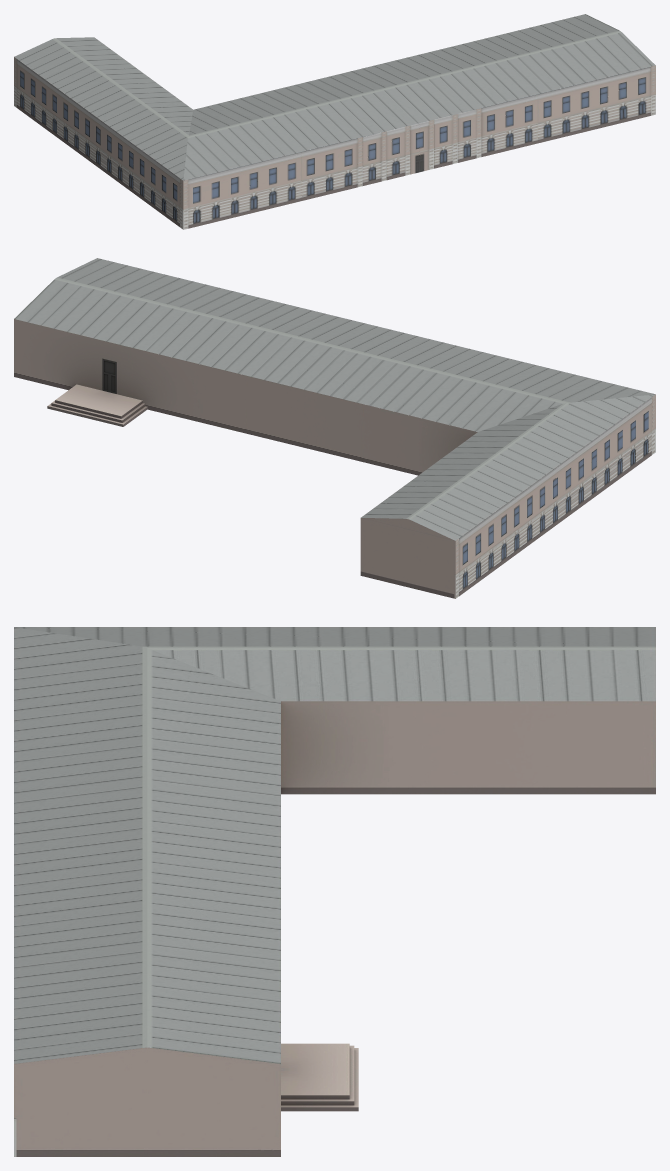
File: Kat-Chol-Gimn.glb
The picture shows the model from 3 angles, top to bottom: view 1: azimuth 30°, elevation 25°; view 2: azimuth 150°, elevation 25°; view 3: azimuth 270°, elevation 25°; orthographic projection. The views are drawn at different scales.
Visible parts, largest first — view 1: kcg; view 2: kcg; view 3: kcg.
Boxes of the visible parts, x1,y1,x2,y2 form: kcg: [14, 14, 655, 229]; kcg: [14, 258, 655, 598]; kcg: [14, 627, 655, 1156].
Bounding box in the file's own units: 46.16 × 5.38 × 28.67.
Materials: 1 (1 with a texture image).
